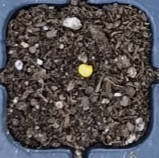chilli seed: (78, 63, 93, 77)
